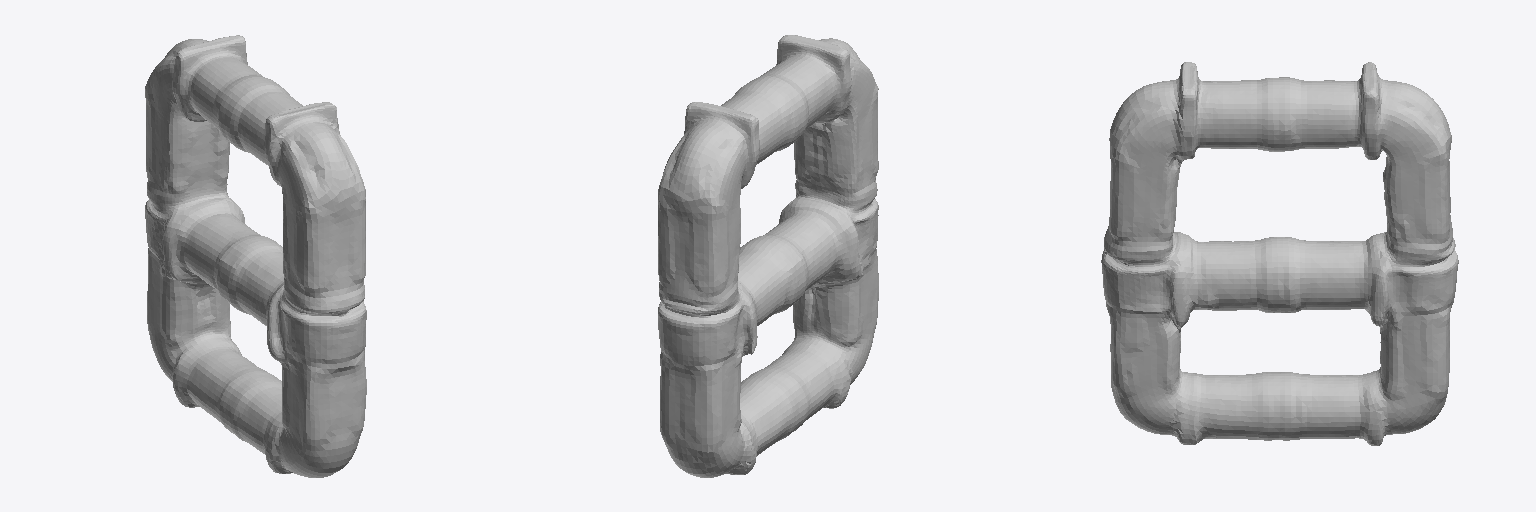
Rendered from 90a80fb5138c_sci_fi_glass_indust.obj.
3 renders of one model, left to right at view 1: azimuth 30°, elevation 25°; view 2: azimuth 150°, elevation 25°; view 3: azimuth 270°, elevation 25°, orthographic.
Visible parts, largest first — view 1: mesh; view 2: mesh; view 3: mesh.
Boxes of the visible parts, box(x1,y1,x2,y2) form: mesh: box(145, 35, 366, 477); mesh: box(658, 35, 878, 477); mesh: box(1101, 62, 1458, 445).
Bounding box in the file's own units: 0.2317 × 0.9996 × 0.8955.